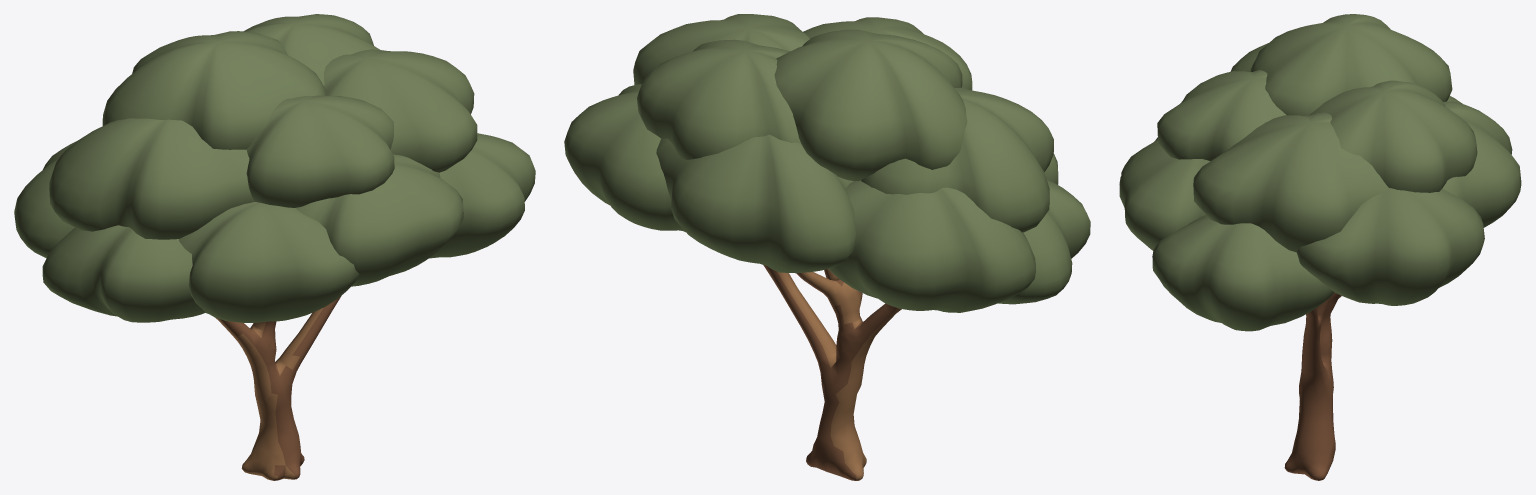
Rendered from tree-a.glb.
The picture shows the model from 3 angles, left to right: view 1: azimuth 30°, elevation 25°; view 2: azimuth 150°, elevation 25°; view 3: azimuth 270°, elevation 25°; orthographic projection. The views are drawn at different scales.
Parts seen in each view (by area): view 1: tree-a-canopy-left-middle, tree-a-canopy-upper-left, tree-a-canopy-front-left, tree-a-canopy-upper-front, tree-a-canopy-front-center, tree-a-canopy-right-middle, tree-a-canopy-left-low, tree-a-trunk, tree-a-canopy-right-low, tree-a-canopy-upper-back, tree-a-canopy-left-back; view 2: tree-a-canopy-upper-left, tree-a-canopy-back-center, tree-a-canopy-left-back, tree-a-canopy-upper-back, tree-a-canopy-left-middle, tree-a-trunk, tree-a-canopy-right-back, tree-a-canopy-left-low, tree-a-canopy-right-middle, tree-a-canopy-upper-front; view 3: tree-a-canopy-right-middle, tree-a-canopy-right-back, tree-a-canopy-right-low, tree-a-canopy-upper-left, tree-a-canopy-upper-back, tree-a-canopy-upper-front, tree-a-canopy-front-center, tree-a-trunk, tree-a-canopy-back-center.
Part boxes in pixels (x1=…): tree-a-canopy-left-middle: x1=49, y1=118, x2=254, y2=239; tree-a-canopy-upper-left: x1=102, y1=31, x2=325, y2=149; tree-a-canopy-front-left: x1=179, y1=202, x2=359, y2=322; tree-a-canopy-upper-front: x1=246, y1=95, x2=394, y2=207; tree-a-canopy-front-center: x1=295, y1=154, x2=463, y2=286; tree-a-canopy-right-middle: x1=323, y1=49, x2=477, y2=172; tree-a-canopy-left-low: x1=42, y1=225, x2=204, y2=322; tree-a-trunk: x1=215, y1=296, x2=341, y2=480; tree-a-canopy-right-low: x1=429, y1=133, x2=535, y2=258; tree-a-canopy-upper-back: x1=244, y1=14, x2=380, y2=85; tree-a-canopy-left-back: x1=14, y1=141, x2=76, y2=258; tree-a-canopy-upper-left: x1=774, y1=29, x2=967, y2=181; tree-a-canopy-back-center: x1=656, y1=134, x2=855, y2=273; tree-a-canopy-left-back: x1=828, y1=180, x2=1035, y2=312; tree-a-canopy-upper-back: x1=637, y1=39, x2=800, y2=159; tree-a-canopy-left-middle: x1=861, y1=87, x2=1053, y2=232; tree-a-trunk: x1=763, y1=265, x2=901, y2=480; tree-a-canopy-right-back: x1=564, y1=84, x2=685, y2=232; tree-a-canopy-left-low: x1=998, y1=180, x2=1090, y2=304; tree-a-canopy-right-middle: x1=633, y1=14, x2=809, y2=84; tree-a-canopy-upper-front: x1=803, y1=17, x2=972, y2=90; tree-a-canopy-right-middle: x1=1193, y1=112, x2=1388, y2=252; tree-a-canopy-right-back: x1=1296, y1=188, x2=1484, y2=305; tree-a-canopy-right-low: x1=1152, y1=215, x2=1334, y2=331; tree-a-canopy-upper-left: x1=1250, y1=14, x2=1452, y2=115; tree-a-canopy-upper-back: x1=1309, y1=80, x2=1477, y2=192; tree-a-canopy-upper-front: x1=1157, y1=70, x2=1286, y2=161; tree-a-canopy-front-center: x1=1119, y1=143, x2=1210, y2=250; tree-a-trunk: x1=1284, y1=292, x2=1341, y2=480; tree-a-canopy-back-center: x1=1442, y1=101, x2=1521, y2=227.
Size of the model in its own units: 5.15 by 4.8 by 4.15.
